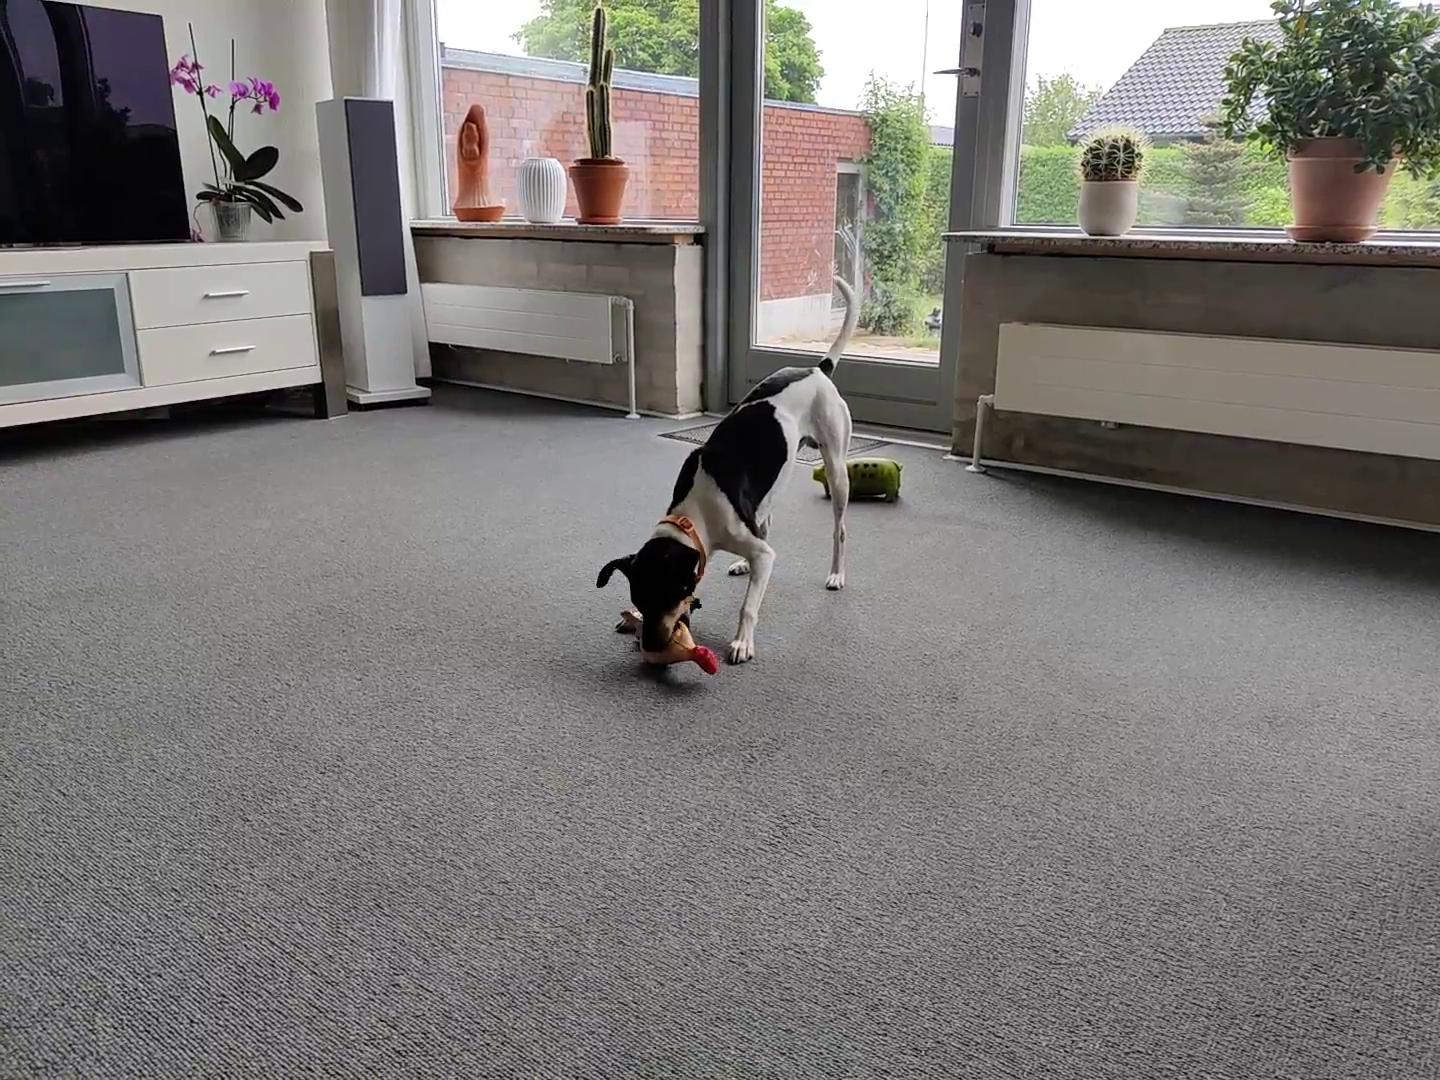Dog: (588, 270, 859, 666)
